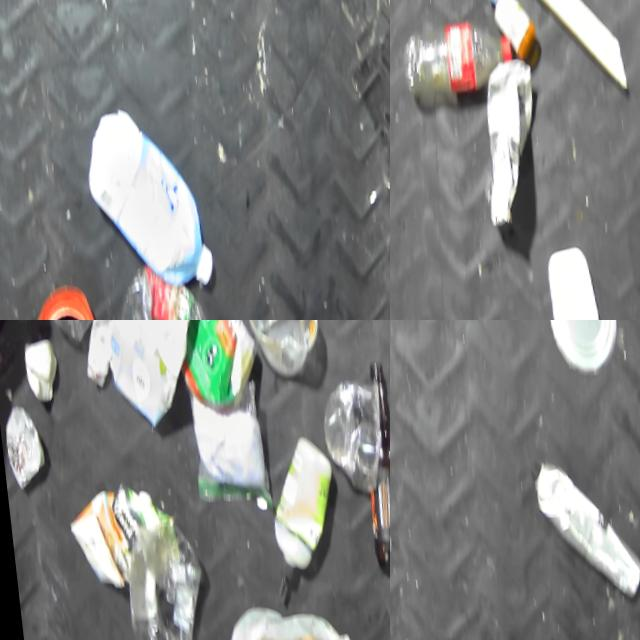can: (531, 320, 618, 367)
milk_jug: (204, 598, 355, 640)
non_white_jug: (65, 97, 213, 283)
plastic_bottle: (104, 505, 198, 640), (394, 11, 513, 96), (98, 261, 216, 320), (595, 582, 640, 640)
